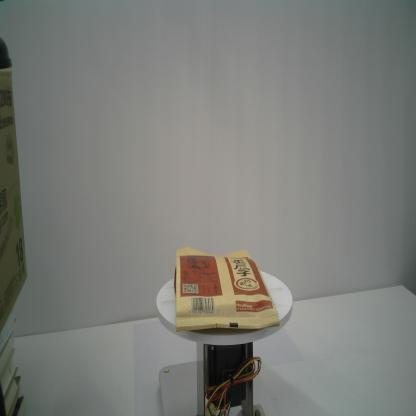Dried Food: (175, 246, 280, 332)
